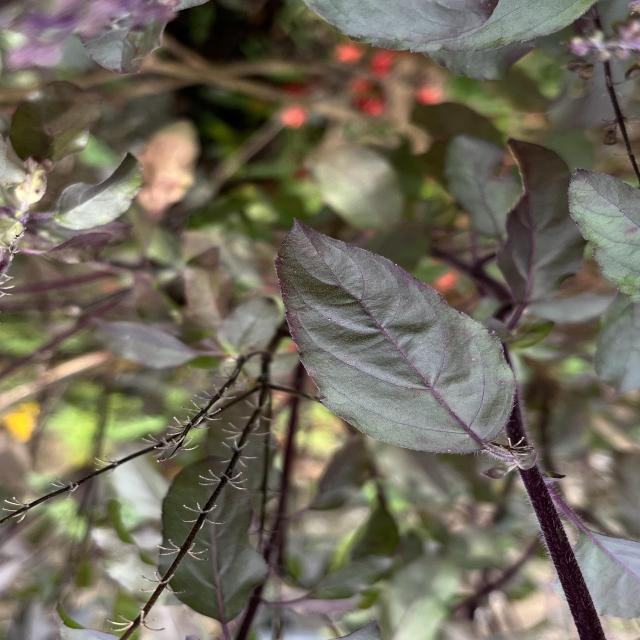Ocimum tenuiflorum: (272, 217, 520, 456)
